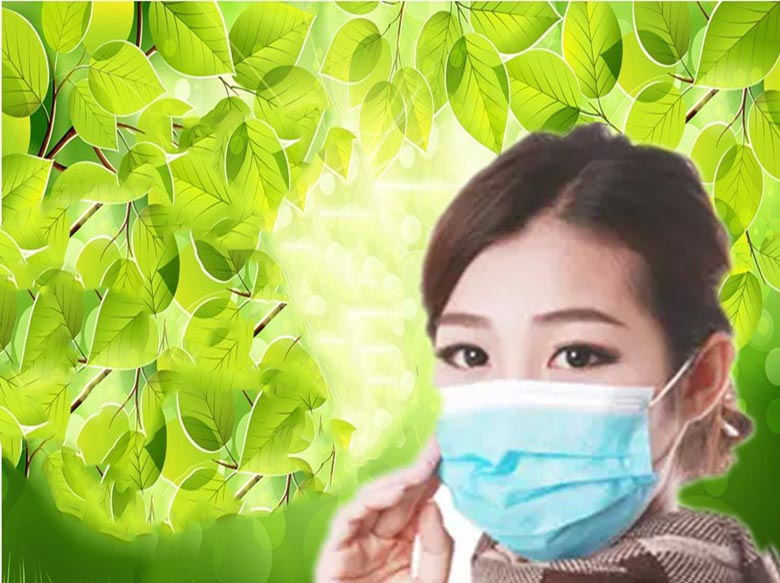face_mask: (435, 230, 666, 536)
